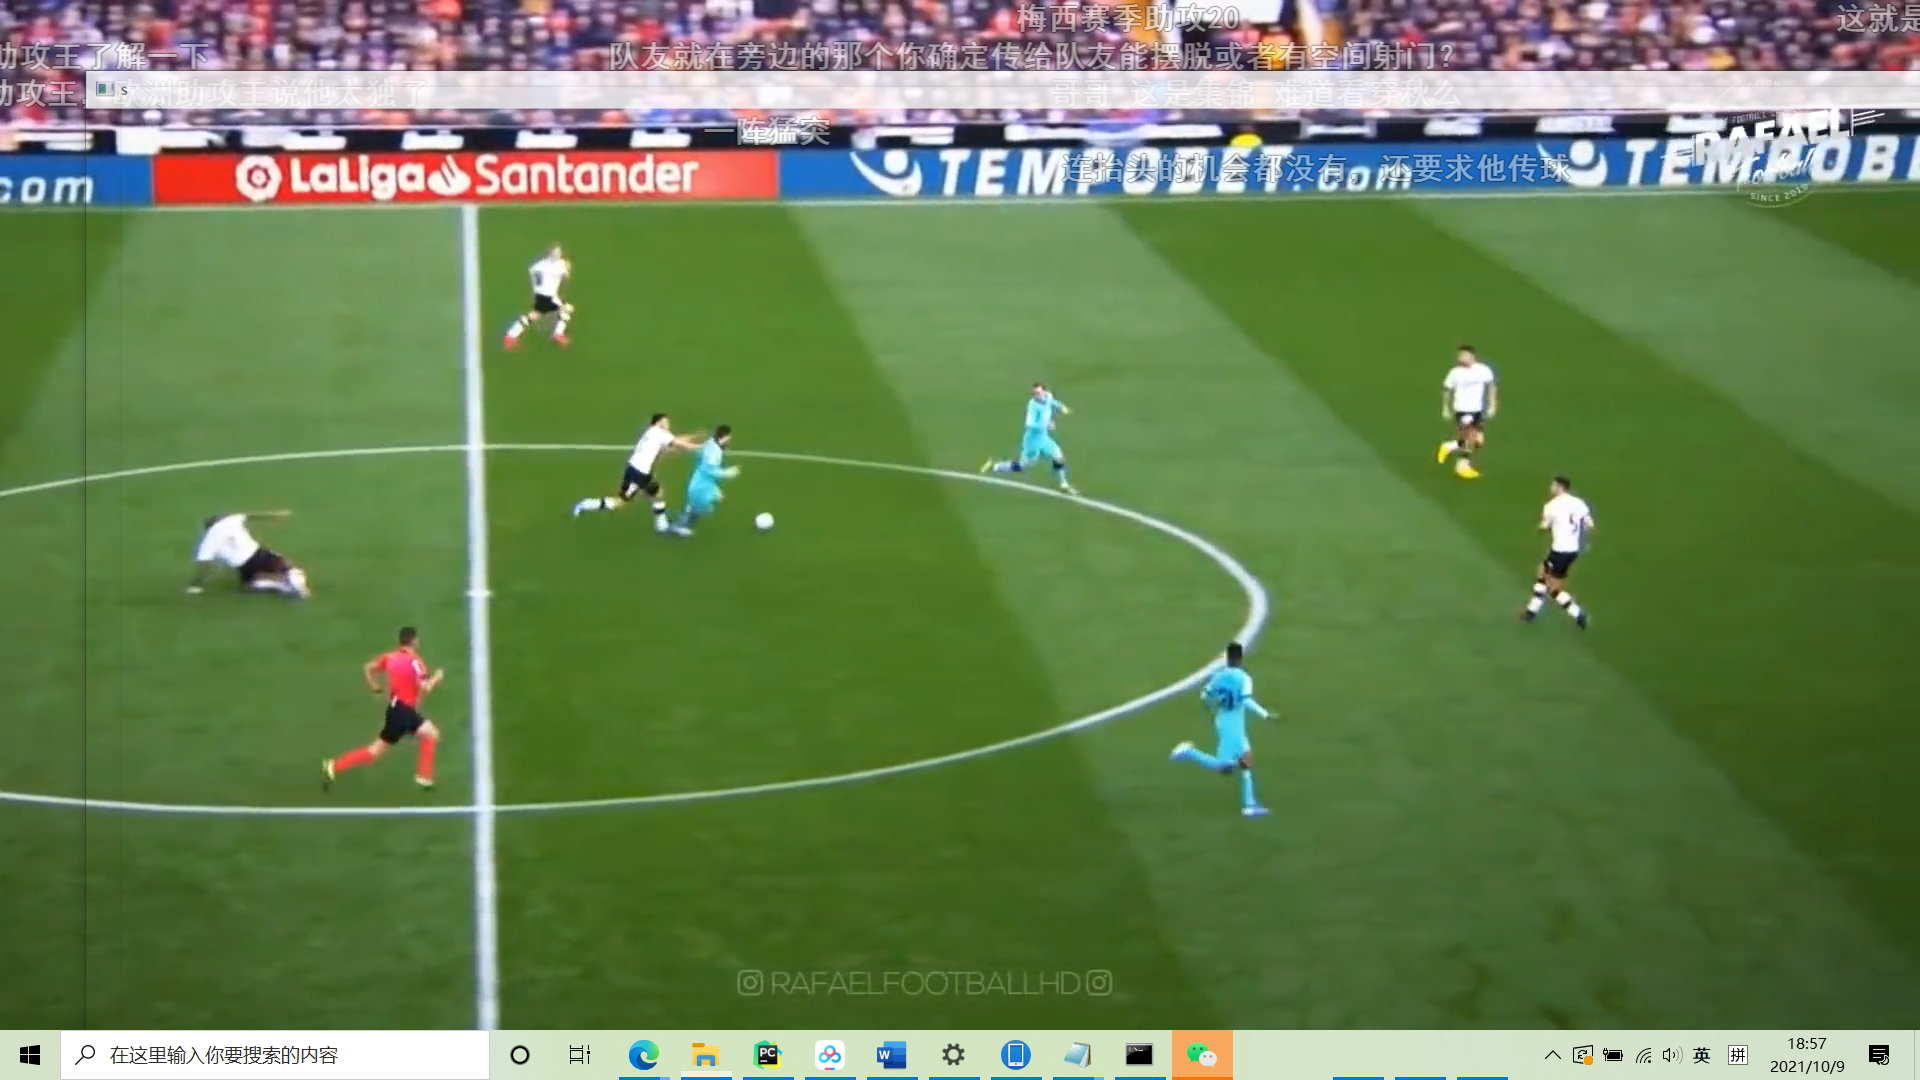ft: (753, 512, 775, 531)
